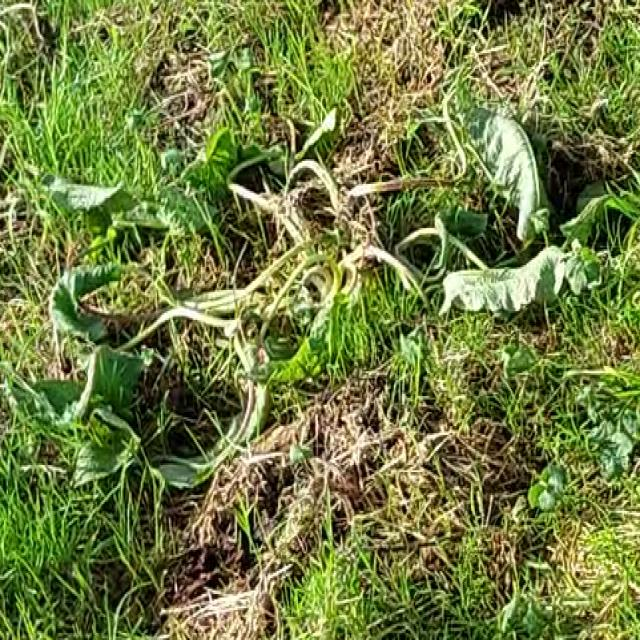organic waste: (33, 81, 639, 476)
